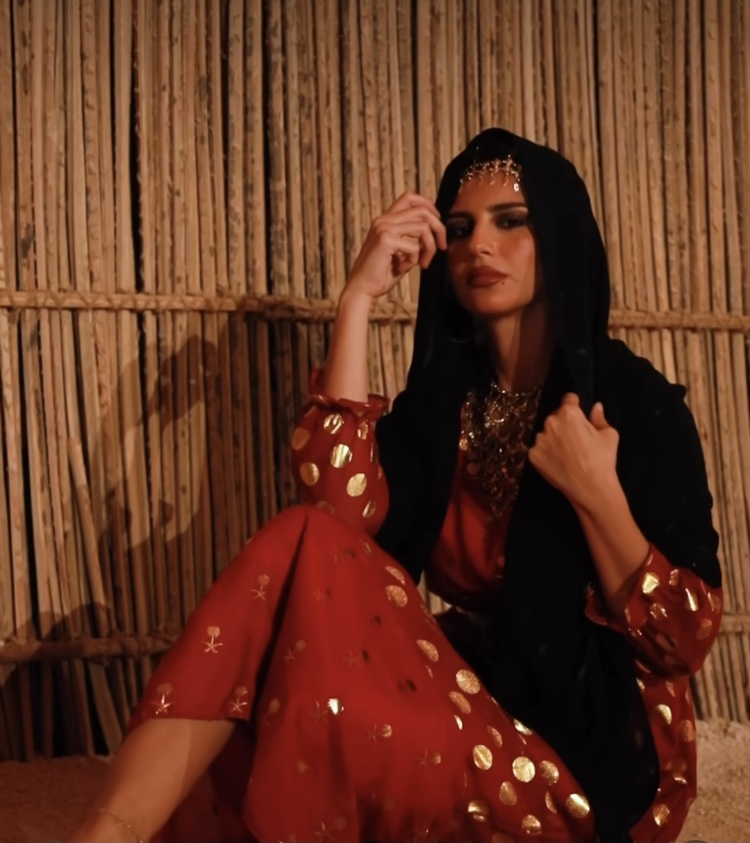Saudi_Founding_Day: (67, 126, 720, 842)
